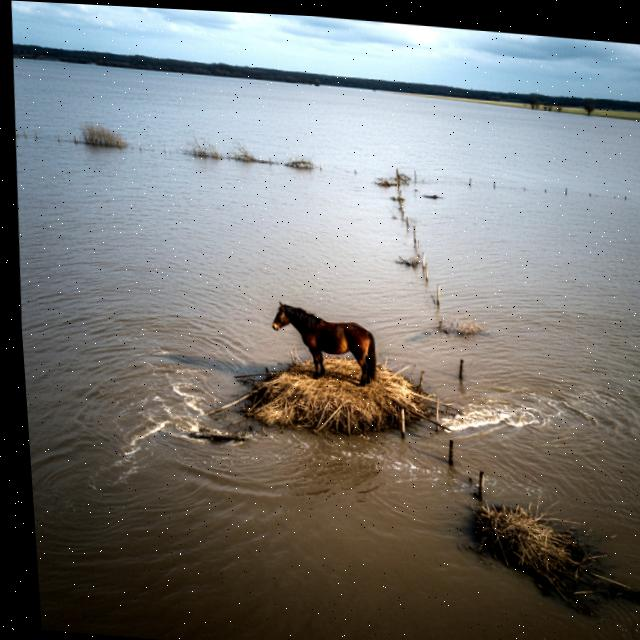horse: (260, 290, 389, 394)
